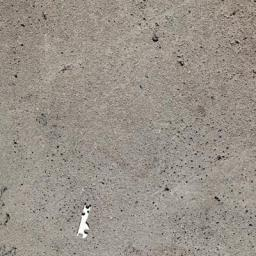FOD: (74, 199, 97, 242)
